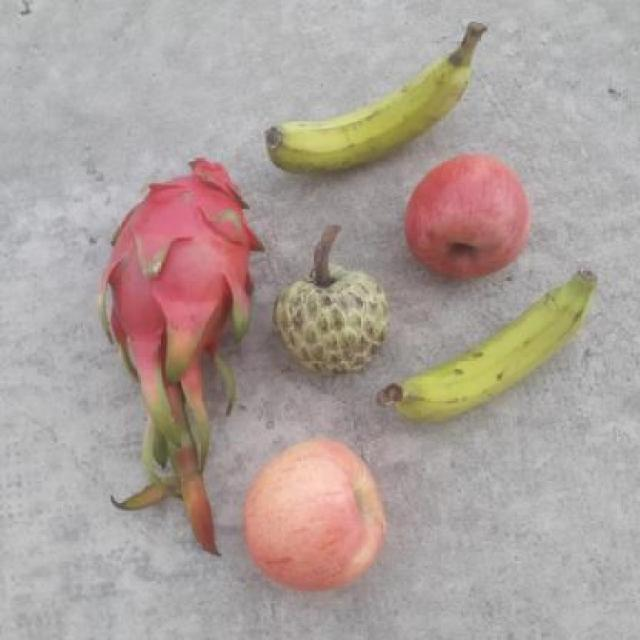apple: (241, 439, 390, 592), (405, 154, 532, 281)
banana: (263, 22, 488, 173), (394, 268, 601, 422)
dragon fruit: (96, 157, 267, 380)
sugar apple: (274, 224, 394, 378)
